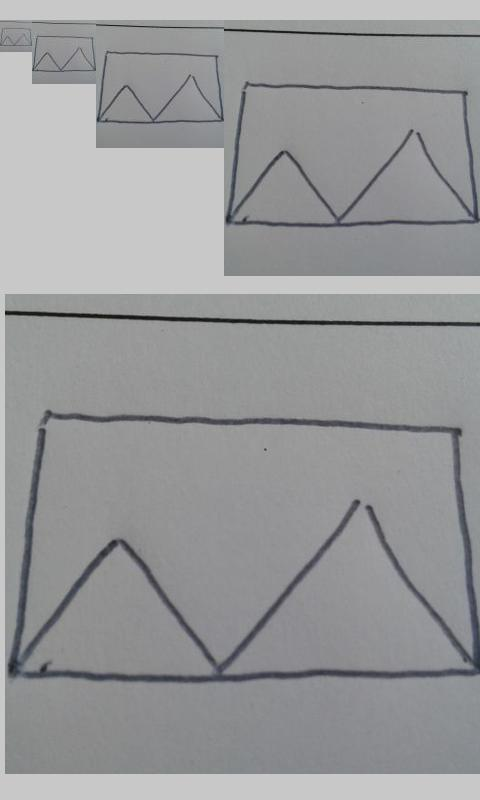image_view: (13, 407, 480, 689), (227, 81, 480, 230), (97, 50, 224, 126), (33, 35, 95, 73), (1, 27, 33, 47)
